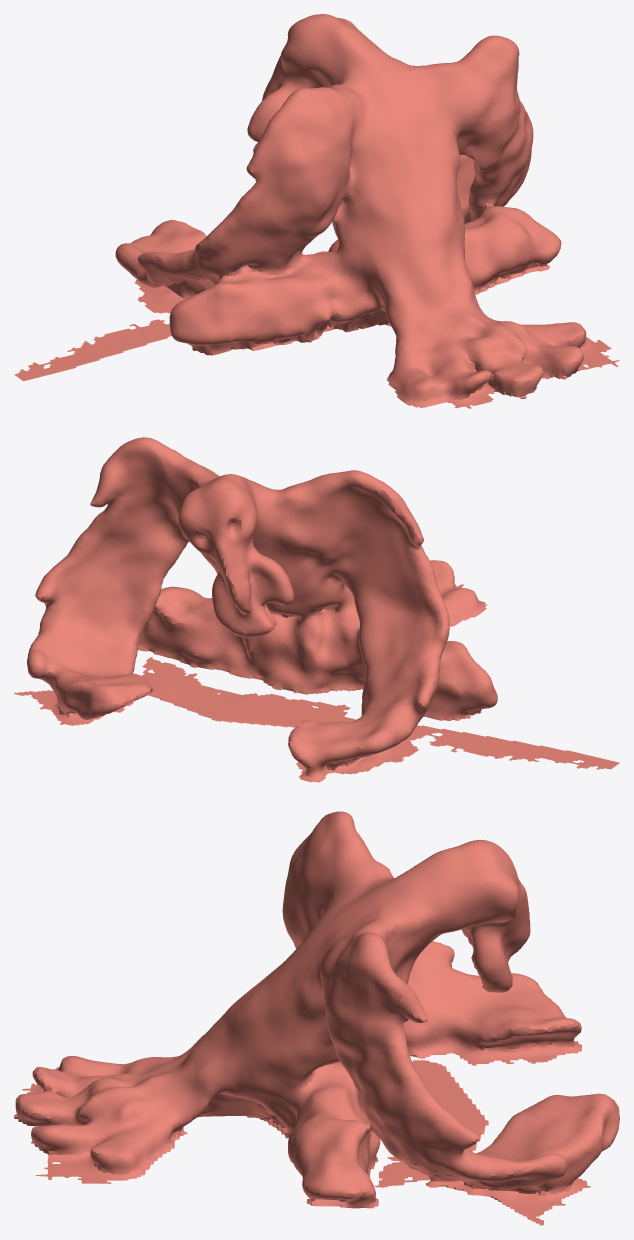
Rendered from retouche5.glb.
3 views of the same model, one above another, from view 1: azimuth 30°, elevation 25°; view 2: azimuth 150°, elevation 25°; view 3: azimuth 270°, elevation 25° (orthographic). The views are drawn at different scales.
Parts seen in each view (by area): view 1: Model; view 2: Model; view 3: Model.
Boxes of the visible parts, bbox=[...] form: Model: bbox=[14, 14, 619, 408]; Model: bbox=[14, 437, 619, 782]; Model: bbox=[14, 811, 619, 1225].
Size of the model in its own units: 0.3651 by 0.1543 by 0.3032.
